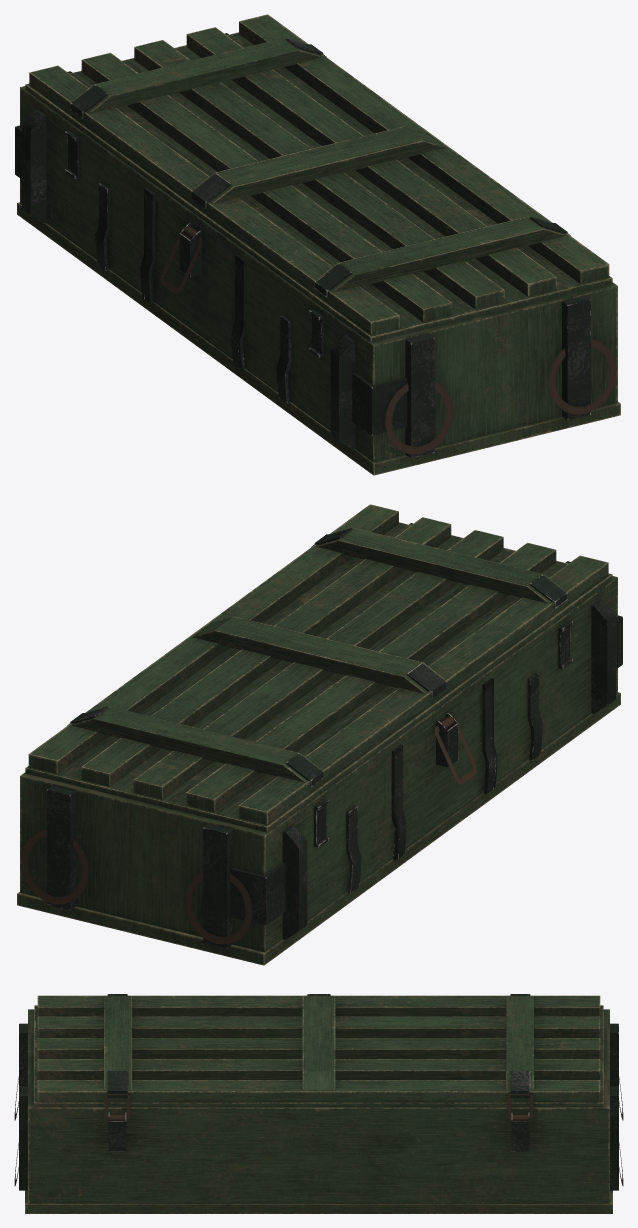
Rendered from Bg_WeaponBox_01.fbx.
3 views of the same model, one above another, from view 1: azimuth 30°, elevation 25°; view 2: azimuth 150°, elevation 25°; view 3: azimuth 270°, elevation 25° (orthographic). The views are drawn at different scales.
Visible parts, largest first — view 1: Bg_WeaponBox_01; view 2: Bg_WeaponBox_01; view 3: Bg_WeaponBox_01.
Boxes of the visible parts, x1,y1,x2,y2 form: Bg_WeaponBox_01: (15, 14, 620, 475); Bg_WeaponBox_01: (17, 504, 622, 965); Bg_WeaponBox_01: (14, 994, 623, 1213).
Size of the model in its own units: 50.36 by 26.88 by 113.
